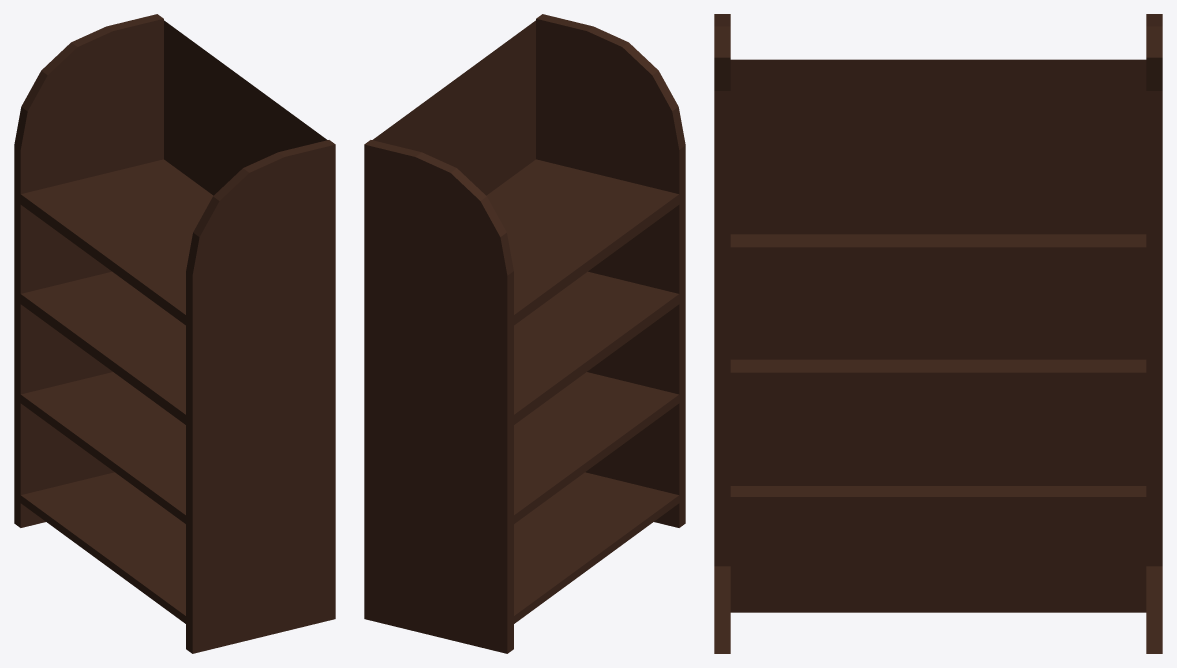
The model's file is prateleira 1.fbx.
The picture shows the model from 3 angles, left to right: view 1: azimuth 30°, elevation 25°; view 2: azimuth 150°, elevation 25°; view 3: azimuth 270°, elevation 25°; orthographic projection. The views are drawn at different scales.
Visible parts, largest first — view 1: Plane; view 2: Plane; view 3: Plane.
Boxes of the visible parts, x1,y1,x2,y2 form: Plane: [14, 14, 335, 653]; Plane: [364, 14, 685, 653]; Plane: [714, 14, 1162, 653].
Size of the model in its own units: 60 by 190 by 129.
